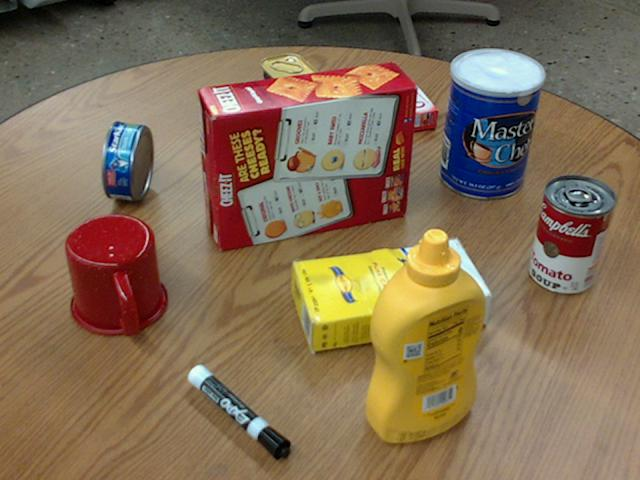cracker_box: (198, 61, 414, 250)
gelatin_box: (363, 79, 438, 132)
large_marker: (187, 365, 289, 458)
master_chef_can: (439, 48, 543, 198)
mug: (66, 214, 168, 334)
mustard_bottle: (365, 229, 484, 442)
potted_meat_can: (261, 52, 329, 148)
sugar_box: (290, 240, 492, 350)
tomato_soup_can: (530, 174, 615, 293)
tuna_fish_can: (103, 122, 152, 200)
